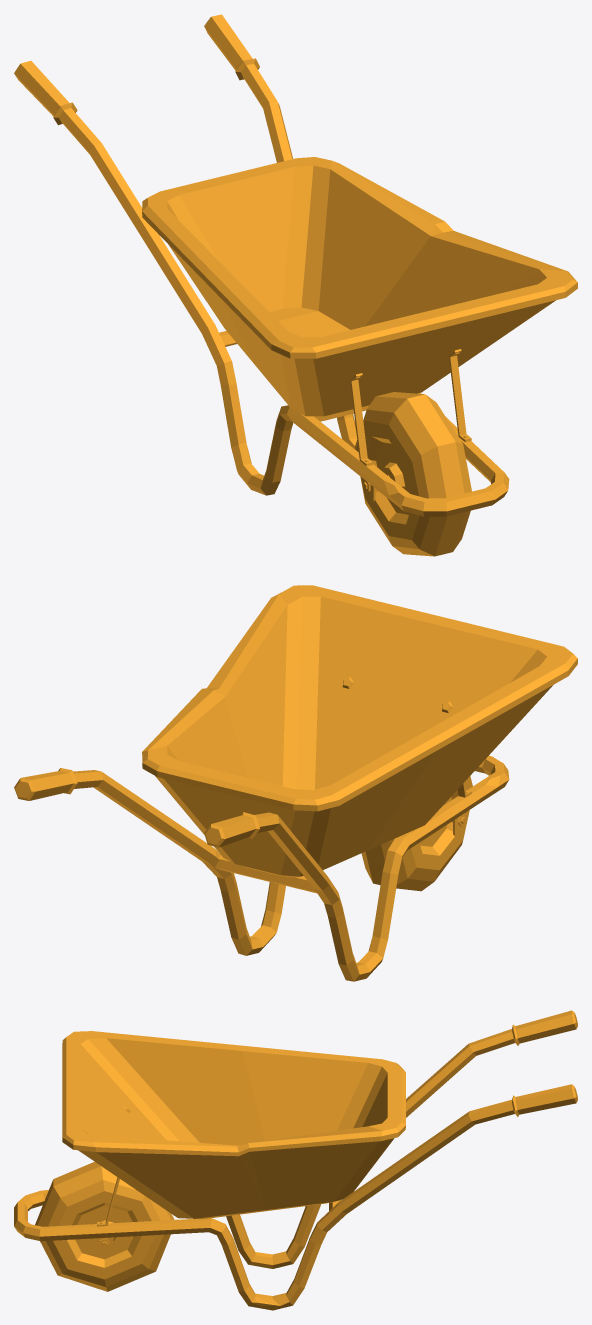
Rendered from SM_Wheelbarrow_A.fbx.
The picture shows the model from 3 angles, top to bottom: view 1: azimuth 30°, elevation 25°; view 2: azimuth 150°, elevation 25°; view 3: azimuth 270°, elevation 25°; orthographic projection. The views are drawn at different scales.
Parts seen in each view (by area): view 1: wheelbarrow-a-base, wheelbarrow-a-wheel; view 2: wheelbarrow-a-base, wheelbarrow-a-wheel; view 3: wheelbarrow-a-base, wheelbarrow-a-wheel.
Boxes of the visible parts, x1,y1,x2,y2 form: wheelbarrow-a-base: [14, 14, 577, 516]; wheelbarrow-a-wheel: [355, 392, 471, 556]; wheelbarrow-a-base: [14, 585, 577, 981]; wheelbarrow-a-wheel: [361, 776, 472, 891]; wheelbarrow-a-base: [14, 1010, 577, 1310]; wheelbarrow-a-wheel: [35, 1161, 174, 1291].
Bounding box in the file's own units: 0.6791 × 0.6554 × 1.4.
